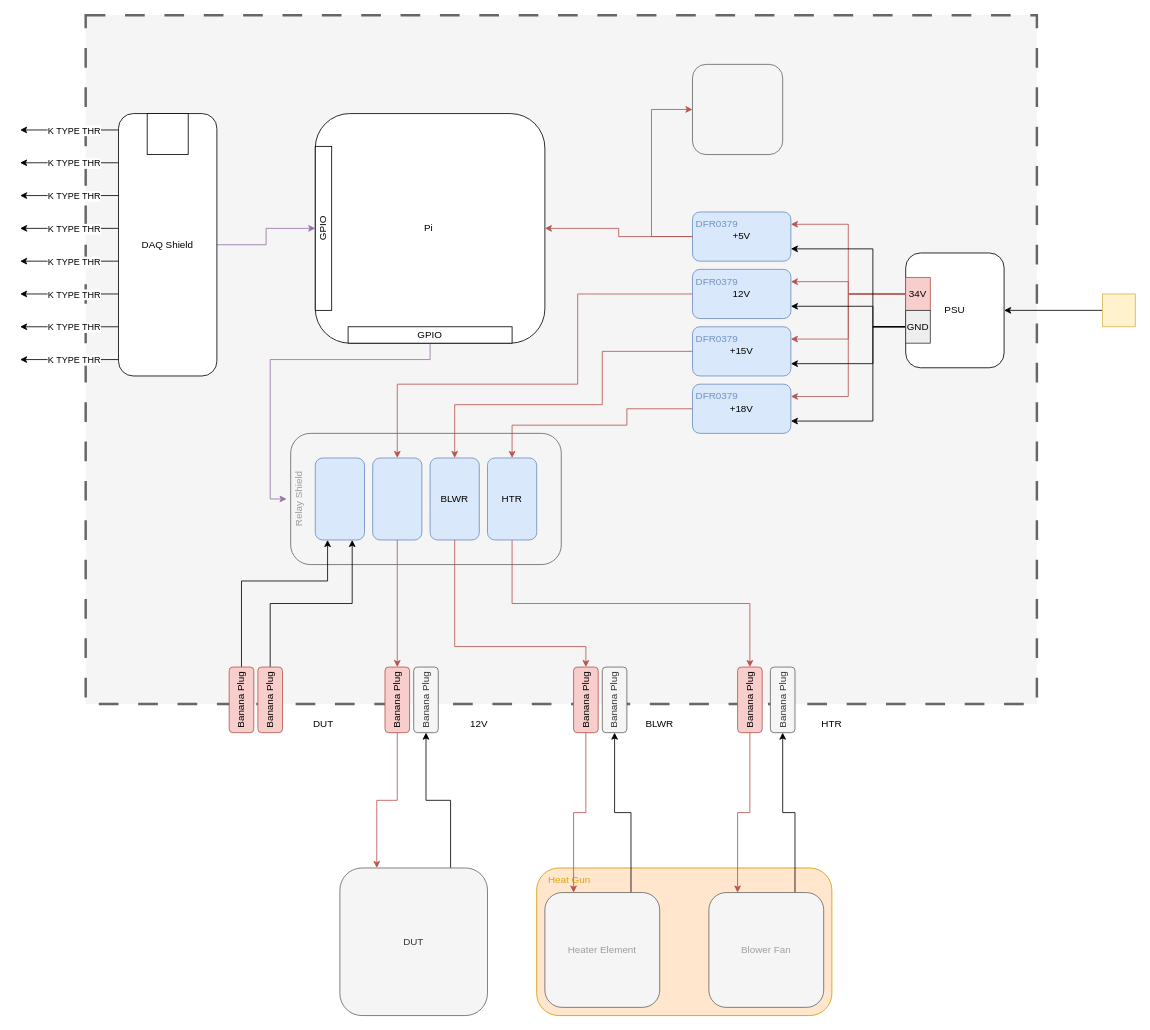
This 1150x1030 diagram has some shape labels left out. Here are the shapes that lost their labels. From the top down, the centre of each, then its label:
At pixel 737 109: "CPU FAN".
At pixel 167 134: "Phoenix Plug".
At pixel 1118 310: "Wall Plug".
At pixel 339 498: "DUT CTRL".
At pixel 397 498: "DUT PWR".
